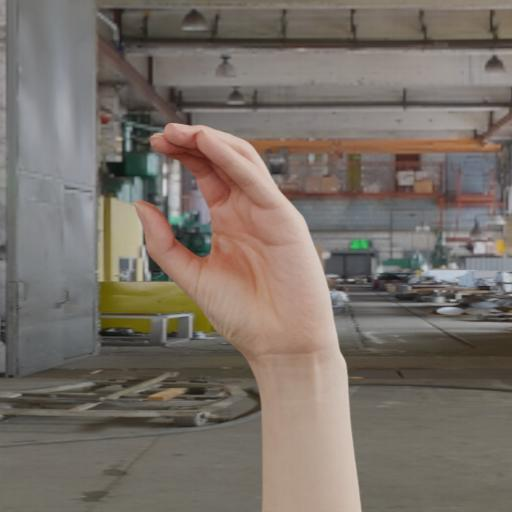C: (128, 114, 364, 386)
